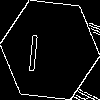I: (25, 25, 43, 72)
